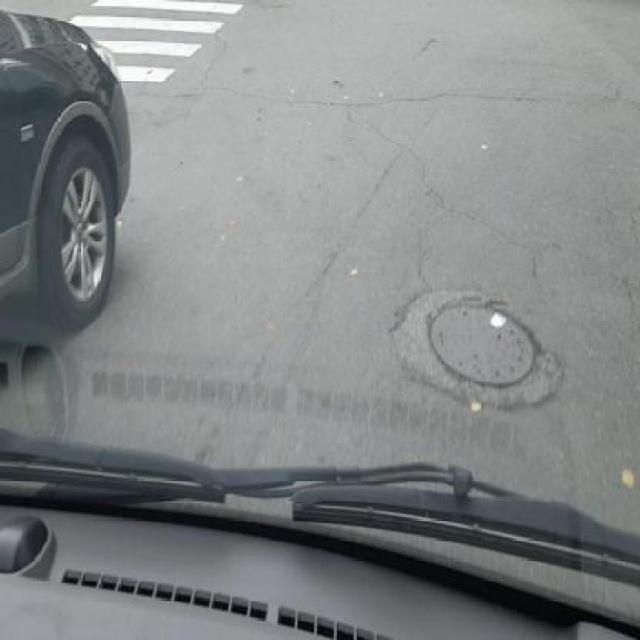Manhole: (427, 296, 538, 387)
